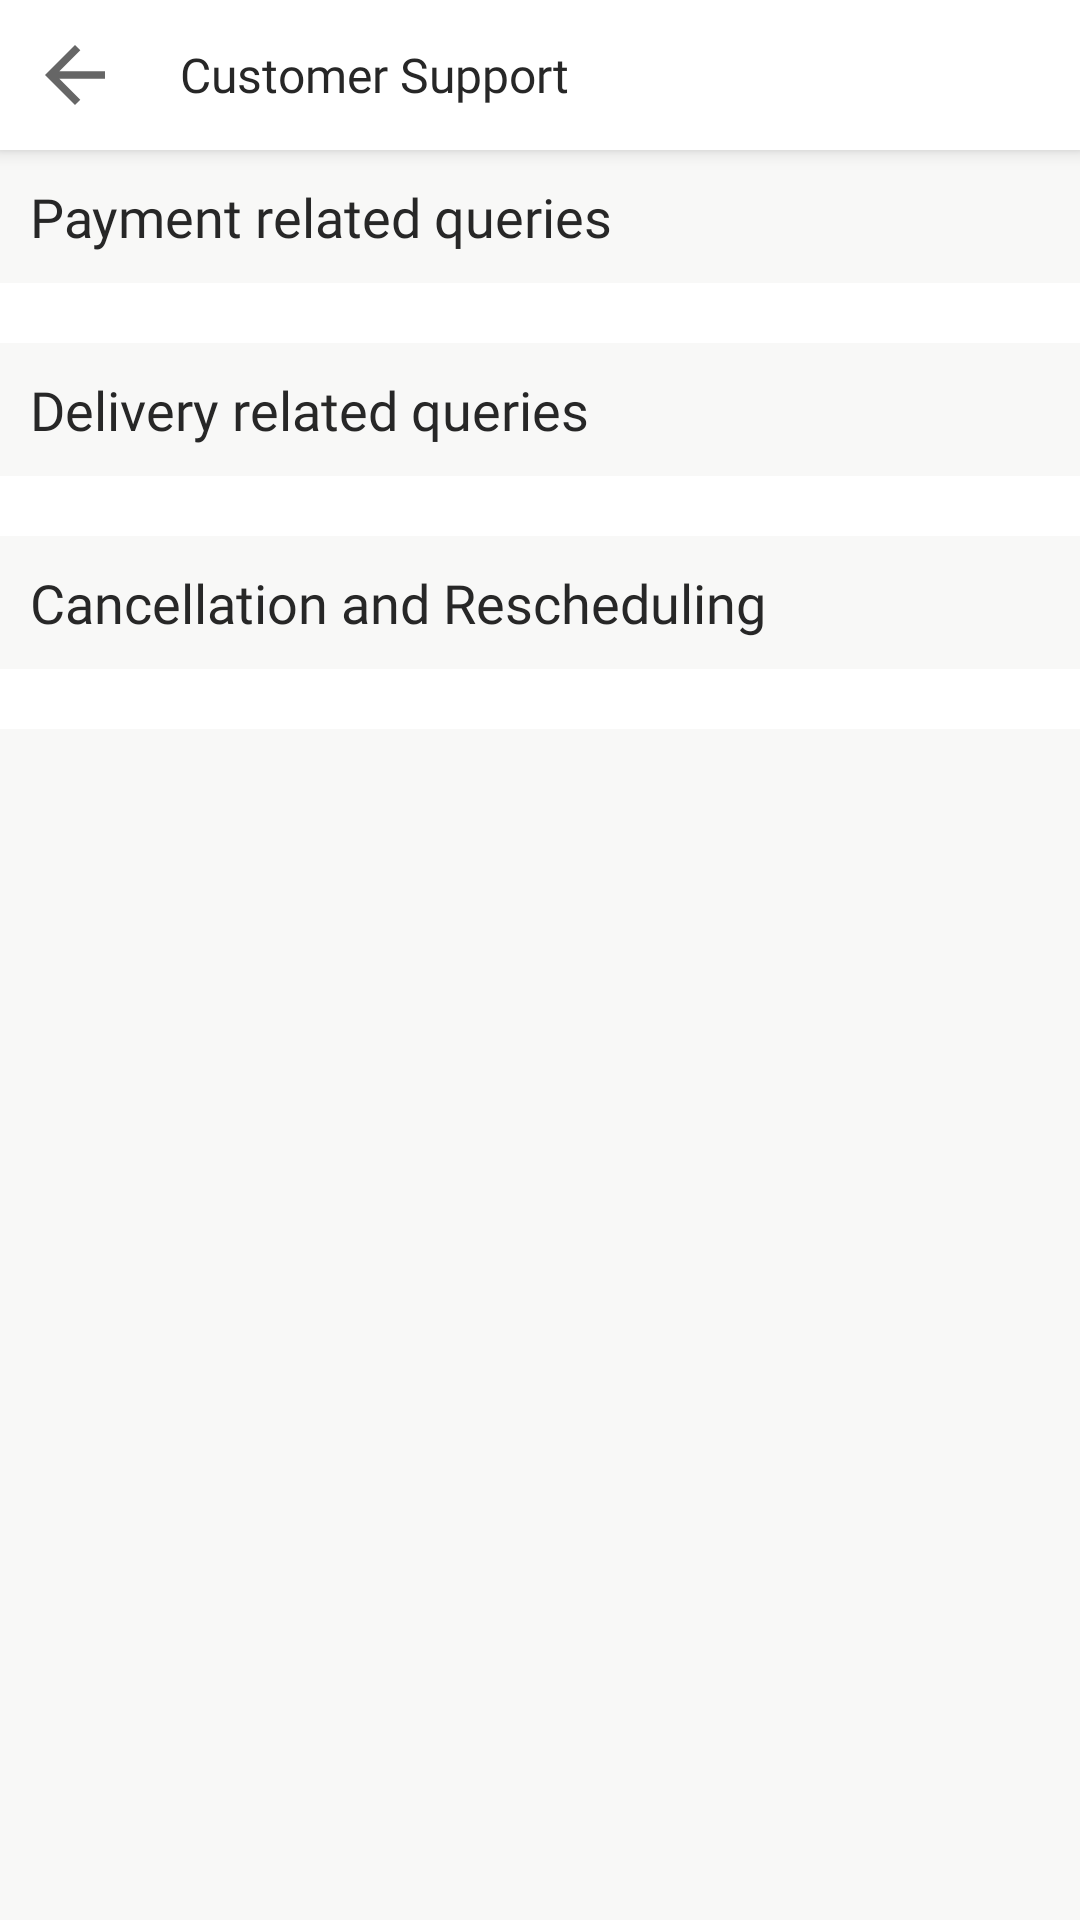

Icons on this 1080x1920 Android screen, each with the point to tap as (x,y):
back: (75,75)
